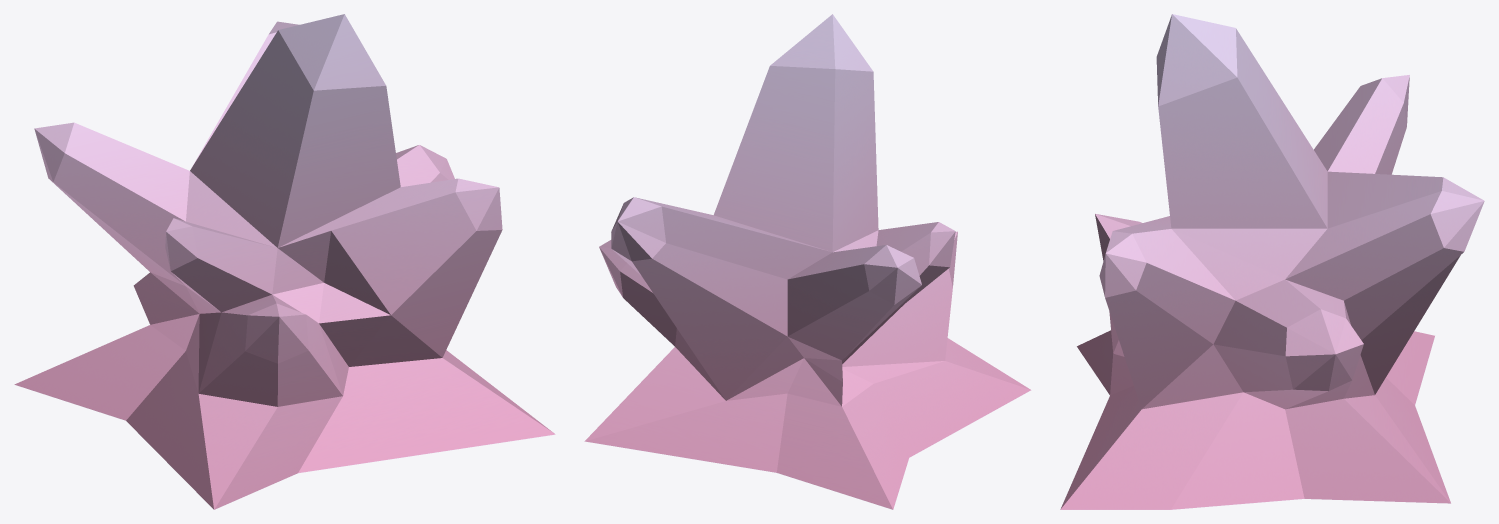
File: MOD_CrystalCluster4.fbx
3 renders of one model, left to right at view 1: azimuth 30°, elevation 25°; view 2: azimuth 150°, elevation 25°; view 3: azimuth 270°, elevation 25°, orthographic. The views are drawn at different scales.
Visible parts, largest first — view 1: MOD_KristalFormatie4; view 2: MOD_KristalFormatie4; view 3: MOD_KristalFormatie4.
Boxes of the visible parts, <box> form: MOD_KristalFormatie4: <box>14,14,555,509</box>; MOD_KristalFormatie4: <box>584,14,1031,509</box>; MOD_KristalFormatie4: <box>1060,14,1484,509</box>.
Bounding box in the file's own units: 4.14 × 4.31 × 3.95.
1 material, 1 textured.
